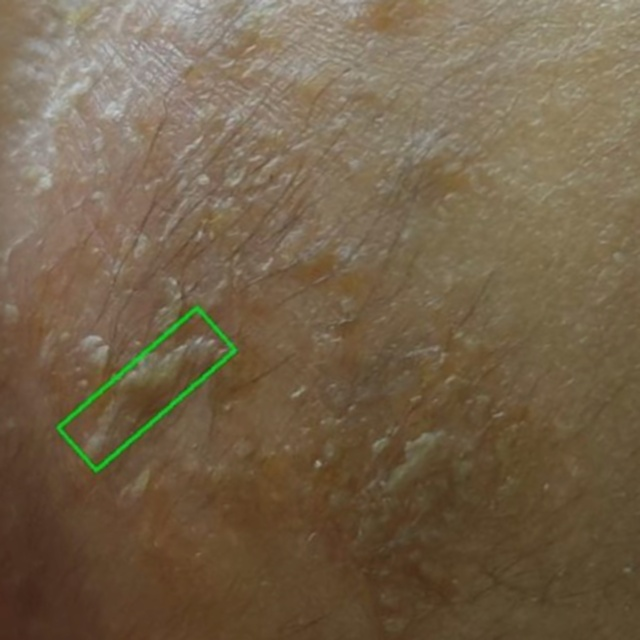Seborrheic Dermatitis: (58, 308, 234, 471)
